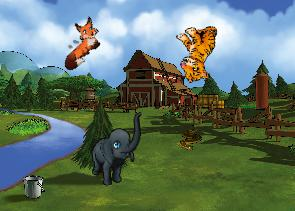elephant: (86, 112, 149, 187)
fox: (48, 13, 110, 73)
tiger: (170, 20, 228, 84)
